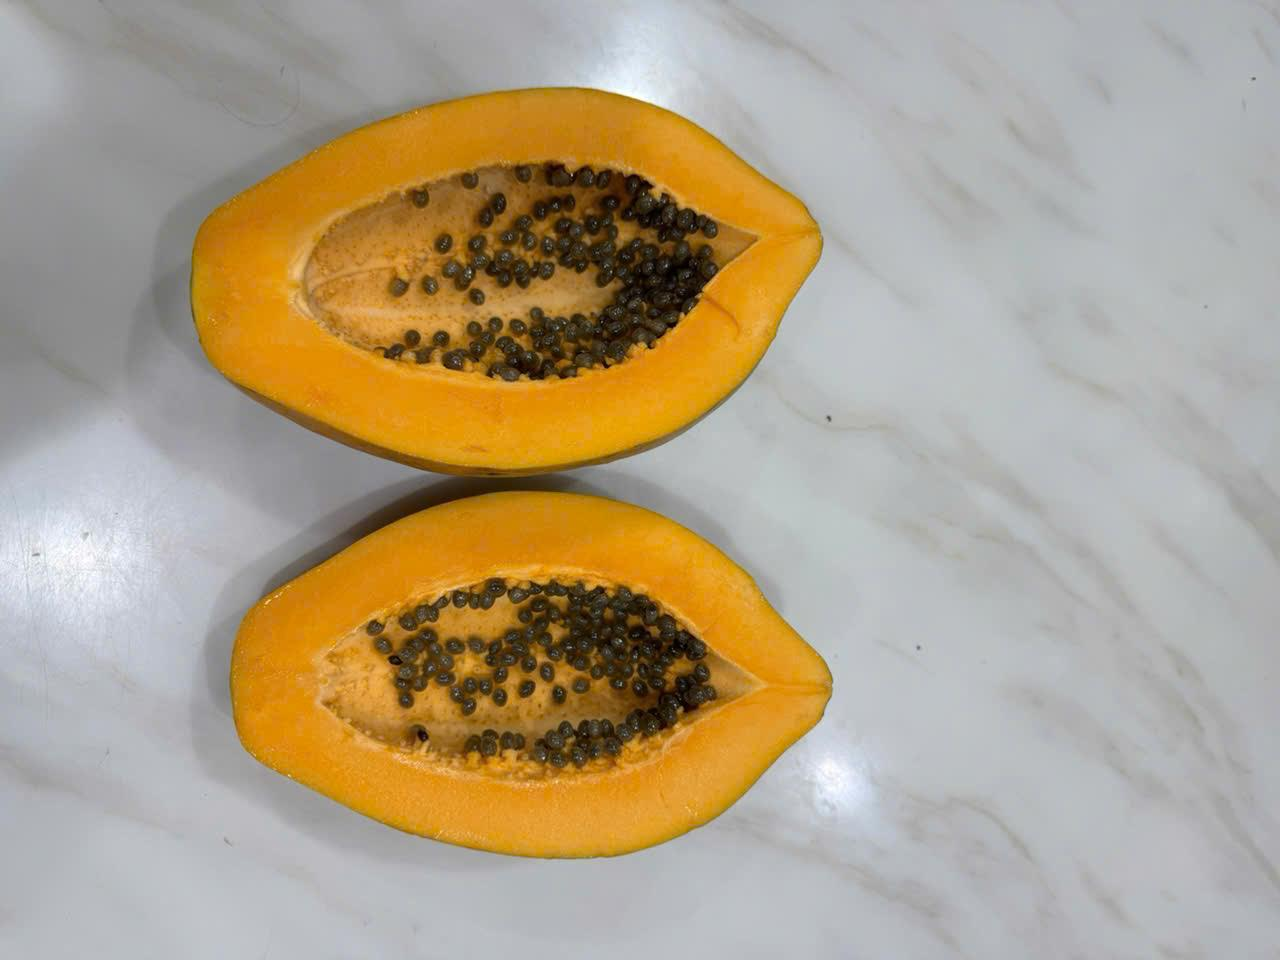papaya: (158, 65, 868, 484), (171, 473, 861, 873)
